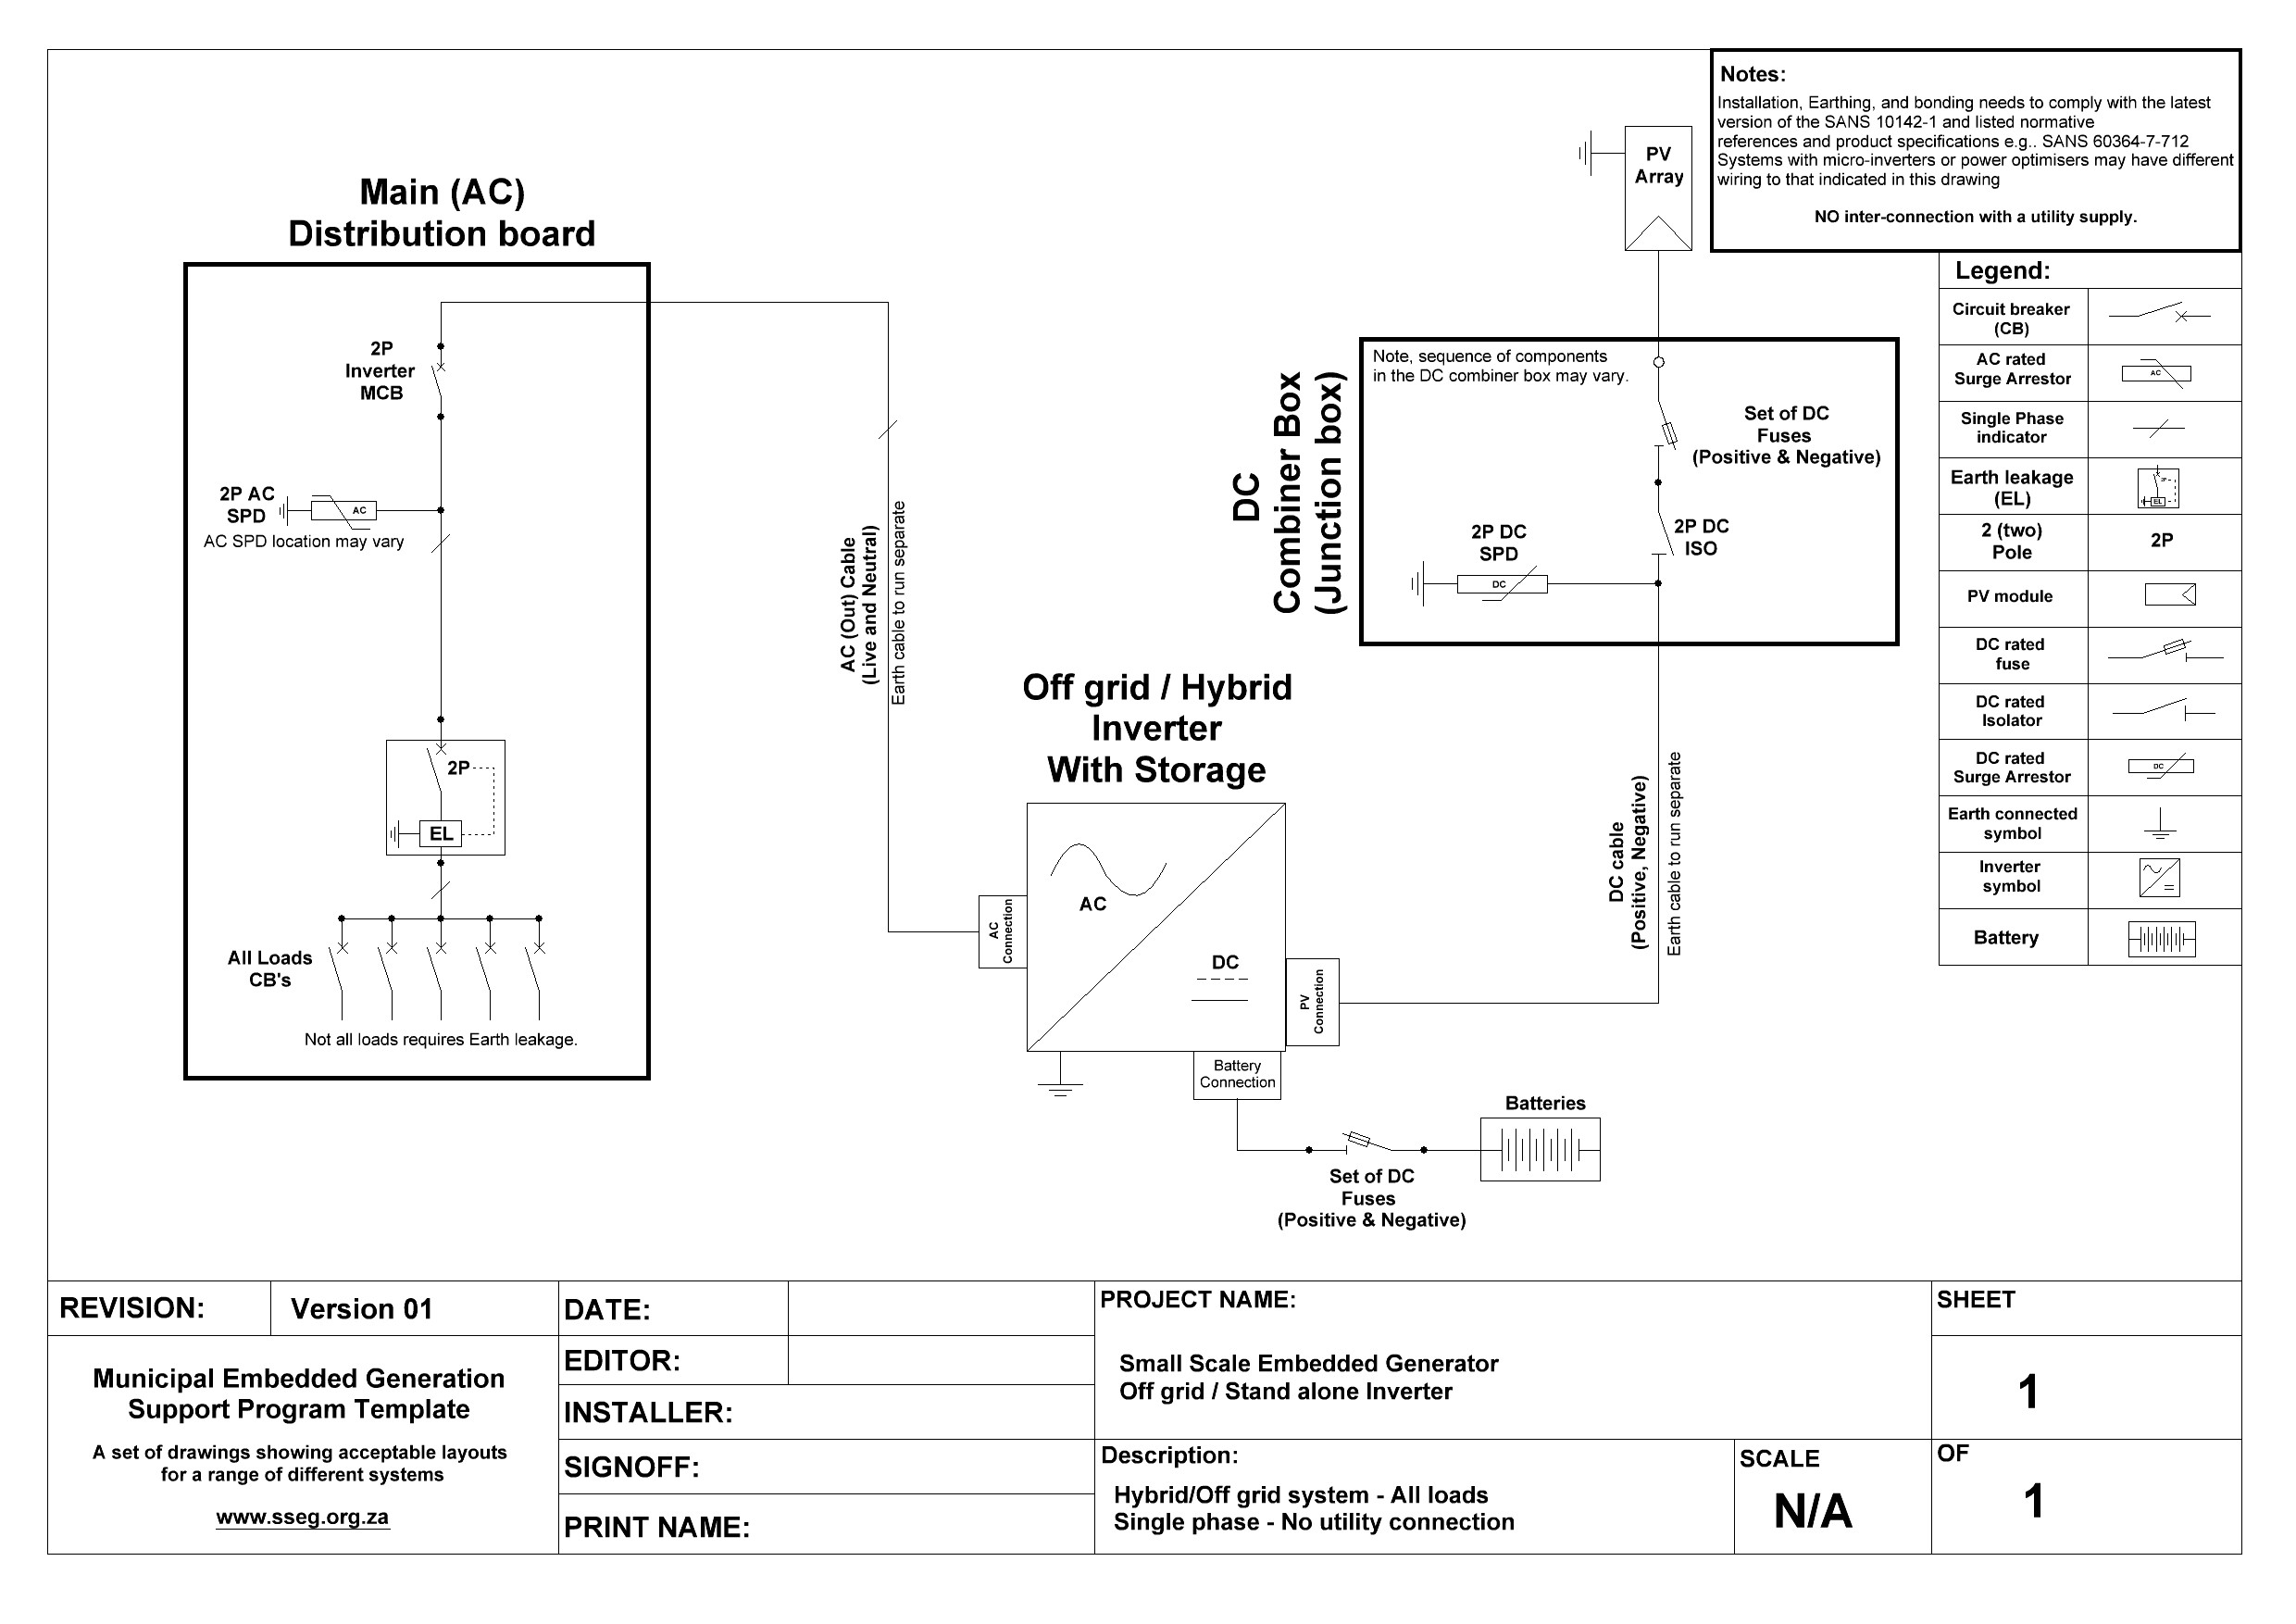fuse: (1634, 381, 1690, 471), (1309, 1130, 1425, 1167)
ground: (1374, 534, 1440, 620), (1549, 120, 1609, 199), (1014, 1070, 1098, 1113), (265, 480, 302, 533), (378, 814, 411, 851)
switch: (300, 932, 358, 1026), (408, 337, 464, 429), (462, 930, 511, 1023), (1635, 478, 1685, 571), (413, 728, 474, 801), (416, 930, 464, 1025), (516, 937, 557, 1023), (371, 935, 402, 1016)
